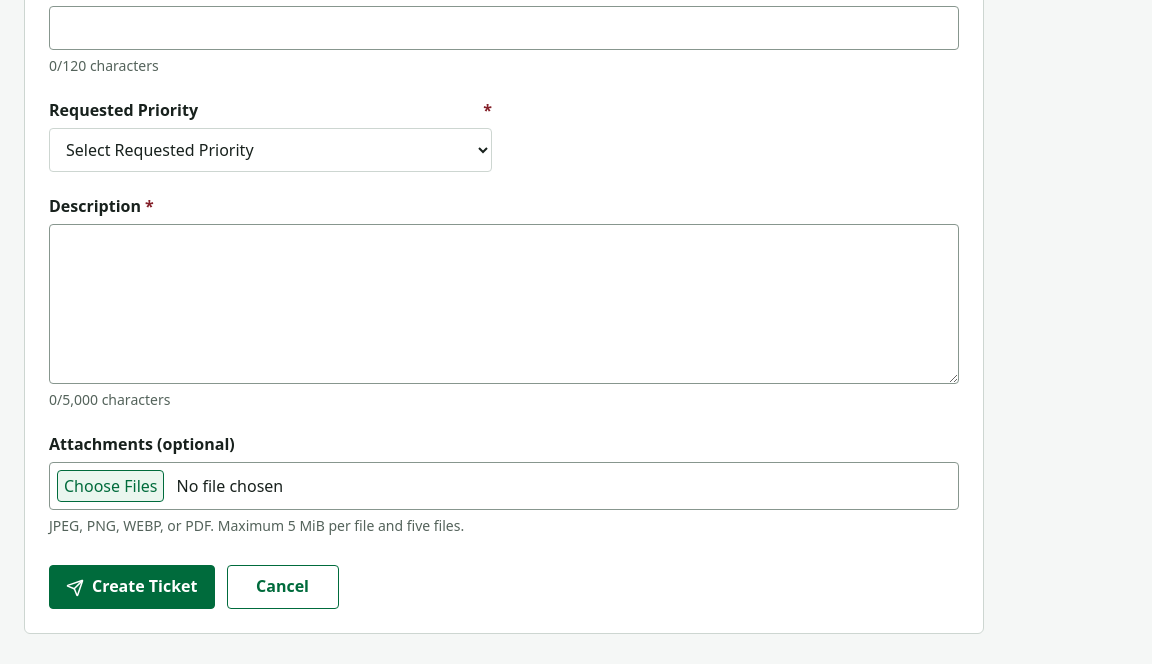
Test: Create Ticket screen › shows field validation and focuses the first invalid control
The width and height of the screenshot is (1152, 664).
(page scrolled)
Click the button "Create Ticket" at (132, 586), box x1=49 y1=564 x2=214 y2=608
(page scrolled)
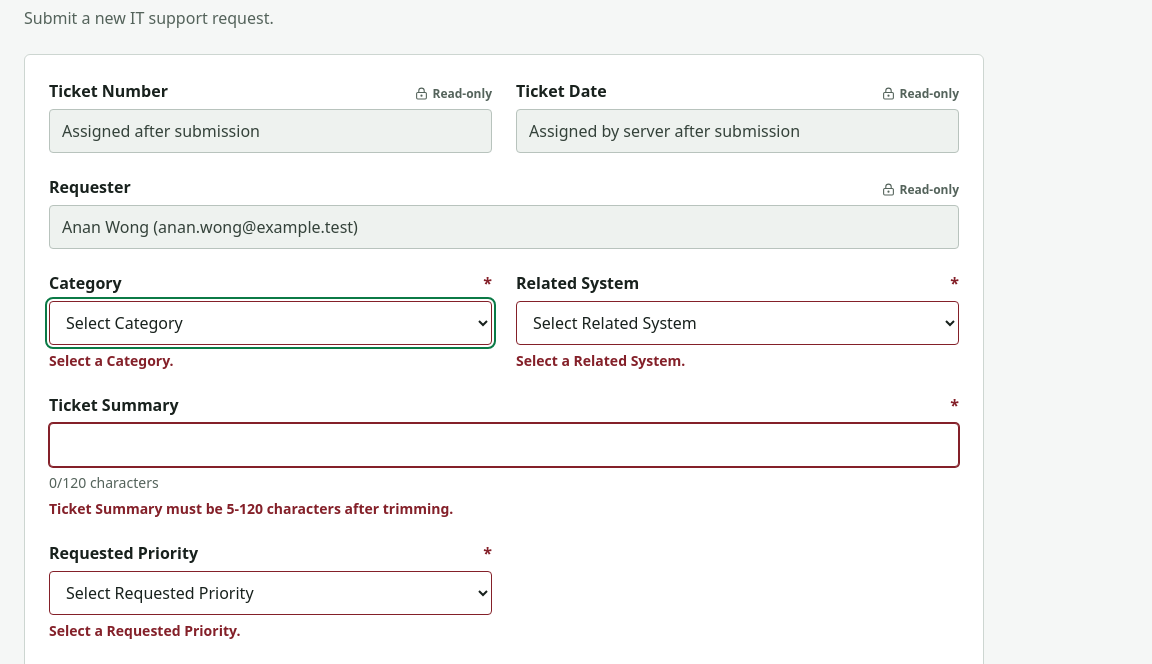
Now the text "Select a Category." is shown, box x1=49 y1=350 x2=174 y2=370
Now the text "Select a Related System." is shown, box x1=516 y1=350 x2=685 y2=370
Now the text "Ticket Summary must be 5-120 characters after trimming." is shown, box x1=49 y1=498 x2=453 y2=518
